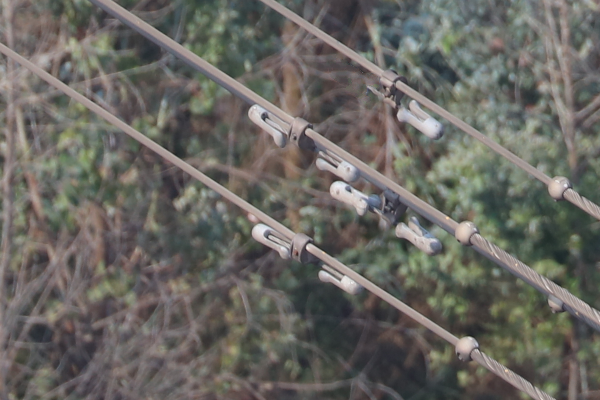damper: (243, 99, 361, 184), (247, 217, 364, 298), (328, 177, 447, 256)
damper_defect: (359, 63, 446, 142)
